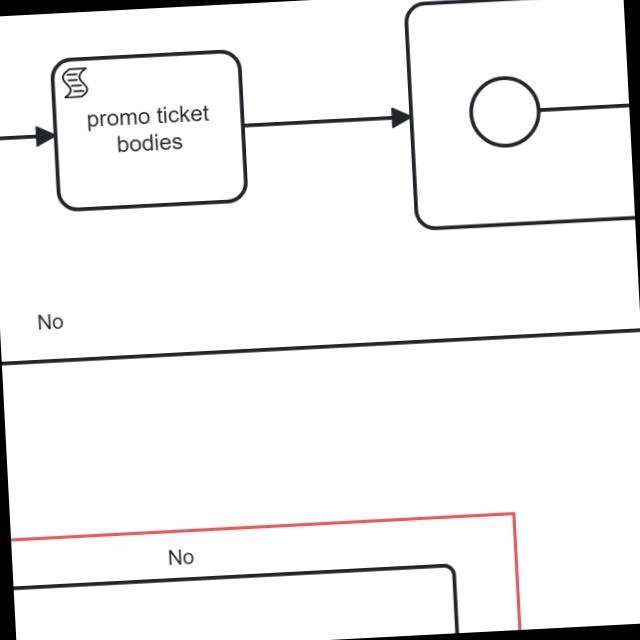arrow: (243, 105, 413, 138)
rectangle: (47, 50, 252, 213)
